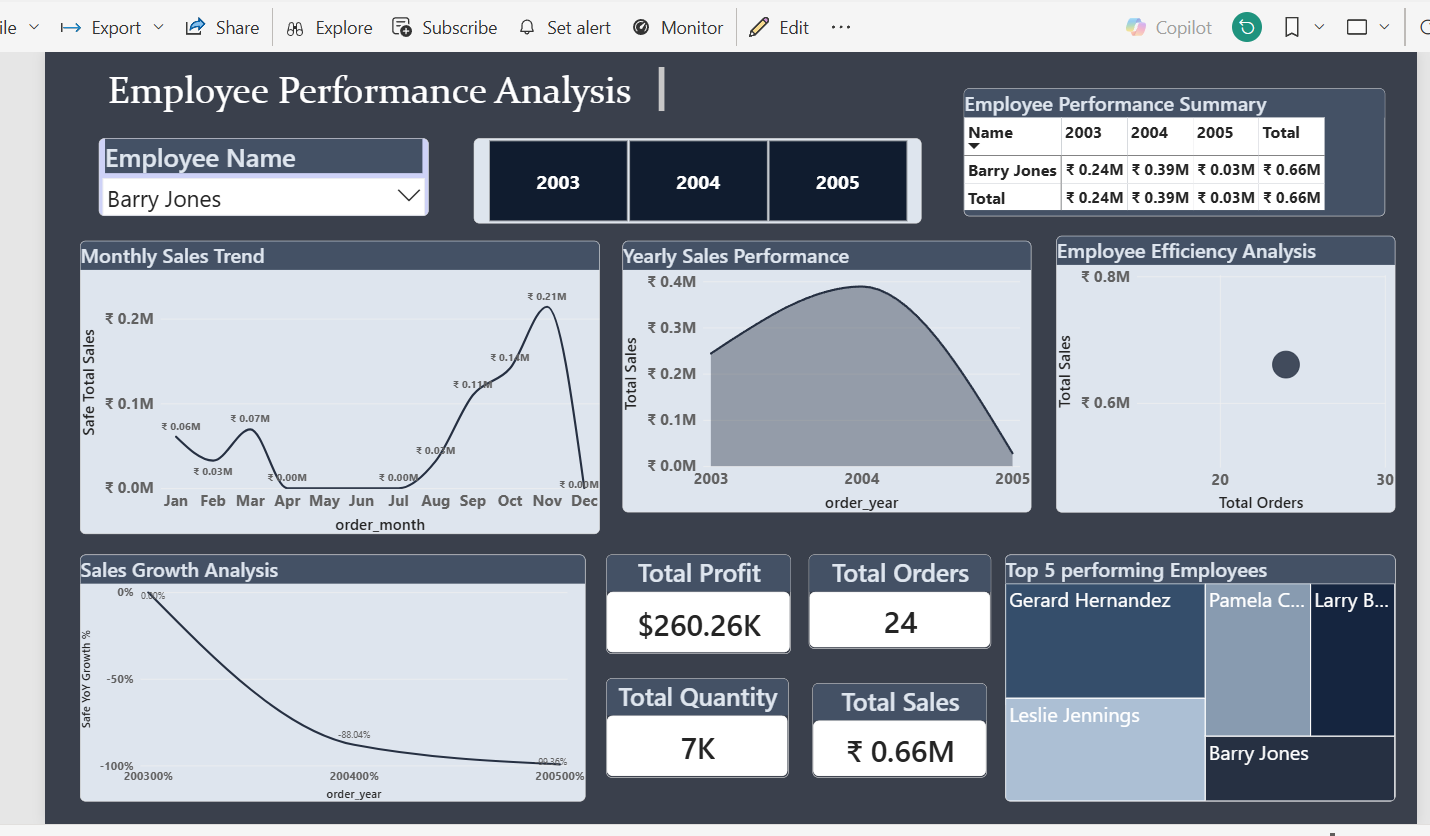

The page's visual inventory and layout, read from the dashboard file:
{"tool":"powerbi","page":{"name":"Employee Database Analysis ","canvas":[1920,1080],"ordinal":2},"visuals":[{"type":"slicer","fields":{"Values":["employee database.Name"]},"box":[76,121.2,461.5,108.6],"z":0},{"type":"cardVisual","title":"Total Sales","fields":{"Data":["order details.Total Sales"]},"box":[1073.1,883.1,244.3,132.1],"z":1000},{"type":"cardVisual","title":"Total Orders","fields":{"Data":["order.Total Orders"]},"box":[1067.7,702.1,255.2,132.1],"z":2000},{"type":"cardVisual","title":"Total Quantity","fields":{"Data":["order details.Total Quantity"]},"box":[785.4,875.9,255.2,139.3],"z":3000},{"type":"areaChart","title":"Yearly Sales Performance","fields":{"Category":["order.order_year"],"Series":["employee database.Name"],"Y":["order details.Total Sales"]},"box":[807.1,264.2,571.9,380],"z":4000},{"type":"treemap","title":"Top 5 performing Employees","fields":{"Group":["employee database.Name"],"Values":["order details.total_profit"]},"box":[1342.8,702.1,546.5,345.6],"z":5000},{"type":"slicer","fields":{"Values":["order.shippedDate.Variation.Date Hierarchy.Year"]},"box":[599,121.2,626.1,119.4],"z":6000},{"type":"cardVisual","title":"Total Profit","fields":{"Data":["order details.total_profit"]},"box":[785.4,702.1,258.8,139.3],"z":7000},{"type":"textbox","box":[48.9,21.7,818,63.3],"z":8000},{"type":"lineChart","title":"Monthly Sales Trend ","fields":{"Category":["order.order_month"],"Y":["order details.Safe Total Sales"]},"box":[48.9,264.2,727.5,410.8],"z":9000},{"type":"lineChart","title":"Sales Growth Analysis","fields":{"Category":["order.order_year"],"Y":["order details.Safe YoY Growth %"]},"box":[48.9,702.1,707.6,345.6],"z":10000},{"type":"pivotTable","title":"Employee Performance Summary","fields":{"Columns":["order.order_year"],"Rows":["employee database.Name"],"Values":["order details.Total Sales"]},"box":[1284.9,50.7,589.9,179.2],"z":11000},{"type":"scatterChart","title":"Employee Efficiency Analysis","fields":{"Size":["order details.Safe Total Profit"],"X":["order.Total Orders"],"Y":["order details.Total Sales"]},"box":[1415.2,257,474.1,387.3],"z":12000}]}

Visuals, with their boxes on the page's 1920x1080 design canvas (x1, y1, x2, y2). These are canvas units, not pixel positions in the 1430x836 screenshot, which may show the page scaled, cropped or inside an application window:
slicer - employee database.Name: [left=76, top=121, right=538, bottom=230]
"Total Sales" cardVisual: [left=1073, top=883, right=1317, bottom=1015]
"Total Orders" cardVisual: [left=1068, top=702, right=1323, bottom=834]
"Total Quantity" cardVisual: [left=785, top=876, right=1041, bottom=1015]
"Yearly Sales Performance" areaChart: [left=807, top=264, right=1379, bottom=644]
"Top 5 performing Employees" treemap: [left=1343, top=702, right=1889, bottom=1048]
slicer - order.shippedDate.Variation.Date Hierarchy.Year: [left=599, top=121, right=1225, bottom=241]
"Total Profit" cardVisual: [left=785, top=702, right=1044, bottom=841]
textbox: [left=49, top=22, right=867, bottom=85]
"Monthly Sales Trend " lineChart: [left=49, top=264, right=776, bottom=675]
"Sales Growth Analysis" lineChart: [left=49, top=702, right=756, bottom=1048]
"Employee Performance Summary" pivotTable: [left=1285, top=51, right=1875, bottom=230]
"Employee Efficiency Analysis" scatterChart: [left=1415, top=257, right=1889, bottom=644]
